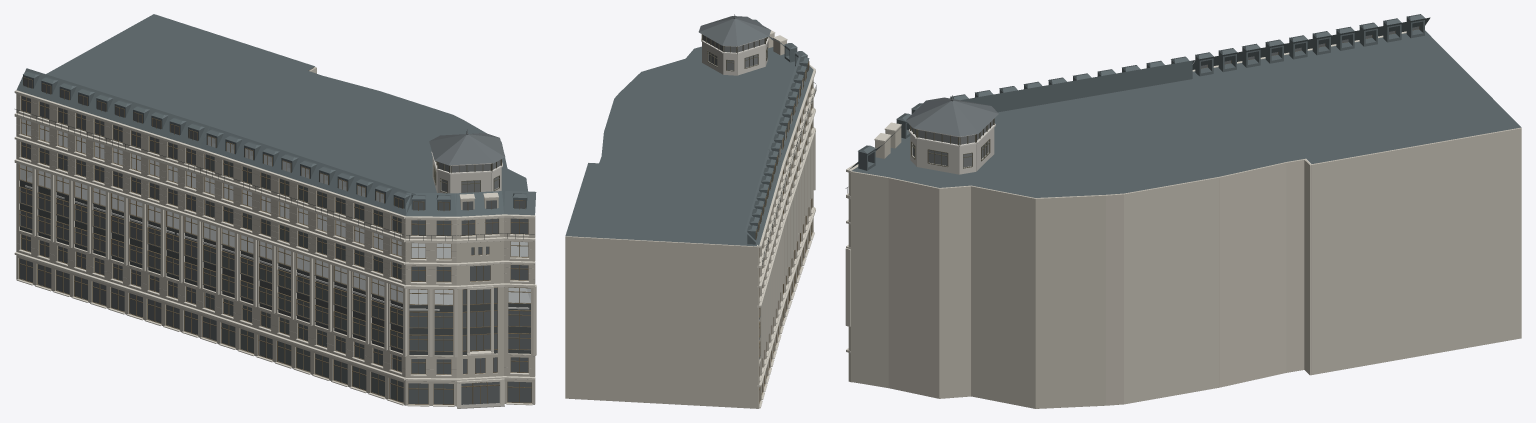
Rendered from 61a-exterior-2b4dad61d434.glb.
3 renders of one model, left to right at view 1: azimuth 30°, elevation 25°; view 2: azimuth 150°, elevation 25°; view 3: azimuth 270°, elevation 25°, orthographic. The views are drawn at different scales.
Visible parts, largest first — view 1: 61A.001; view 2: 61A.001; view 3: 61A.001.
Part boxes in pixels (box(x1,y1,x2,y2)): 61A.001: box(14, 14, 536, 408); 61A.001: box(565, 14, 816, 408); 61A.001: box(845, 14, 1521, 408).
Bounding box in the file's own units: 51.25 × 38.48 × 85.72.
